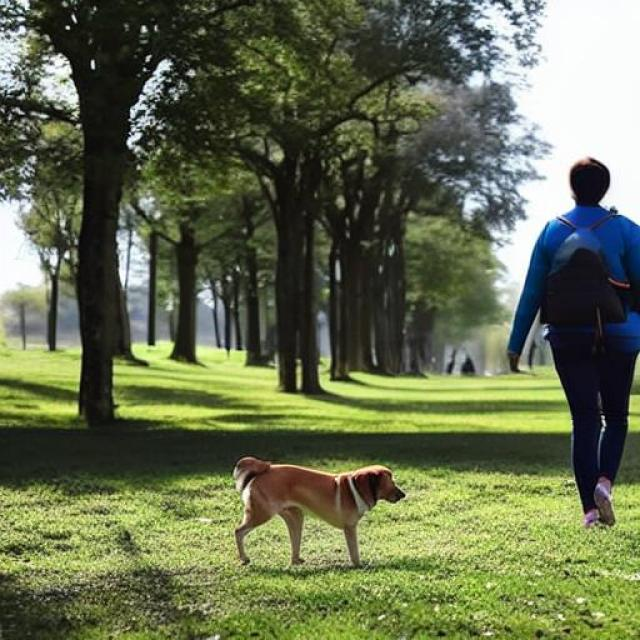Unleashed_Dog: (233, 352, 635, 568)
